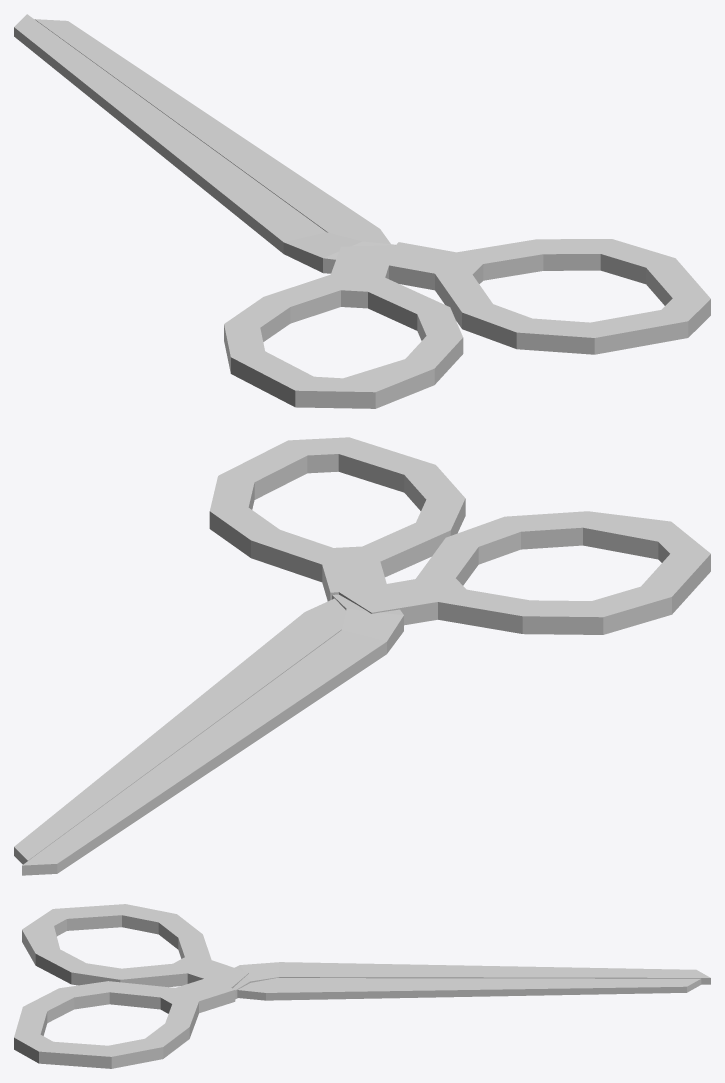
Rendered from Scissor.fbx.
3 renders of one model, top to bottom at view 1: azimuth 30°, elevation 25°; view 2: azimuth 150°, elevation 25°; view 3: azimuth 270°, elevation 25°, orthographic. The views are drawn at different scales.
Parts seen in each view (by area): view 1: Scissor_p1, Scissor_p2; view 2: Scissor_p1, Scissor_p2; view 3: Scissor_p2, Scissor_p1.
Part boxes in pixels (x1,y1,x2,y2): Scissor_p1: (14, 14, 710, 354); Scissor_p2: (35, 19, 463, 408); Scissor_p1: (22, 437, 465, 875); Scissor_p2: (14, 511, 710, 864); Scissor_p2: (22, 904, 701, 1000); Scissor_p1: (14, 962, 710, 1068).
Size of the model in its own units: 11.57 by 0.4245 by 22.28.
